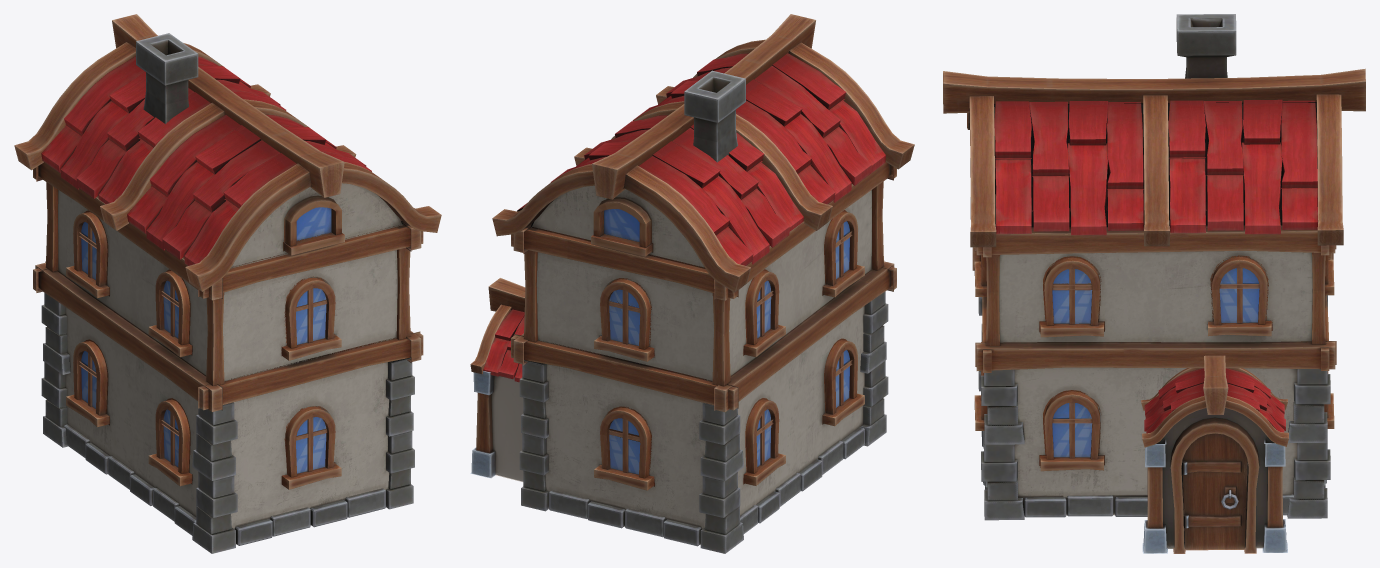
The model's file is House4.fbx.
3 renders of one model, left to right at view 1: azimuth 30°, elevation 25°; view 2: azimuth 150°, elevation 25°; view 3: azimuth 270°, elevation 25°, orthographic. The views are drawn at different scales.
Visible parts, largest first — view 1: House4; view 2: House4; view 3: House4.
Part boxes in pixels (x1,y1,x2,y2): House4: (14, 14, 441, 553); House4: (470, 14, 914, 553); House4: (943, 14, 1365, 553).
Bounding box in the file's own units: 712 × 919 × 824.
